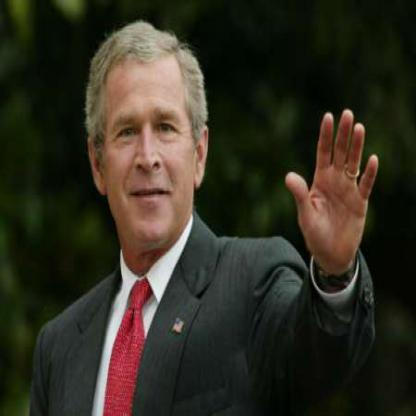face: (101, 27, 197, 247)
